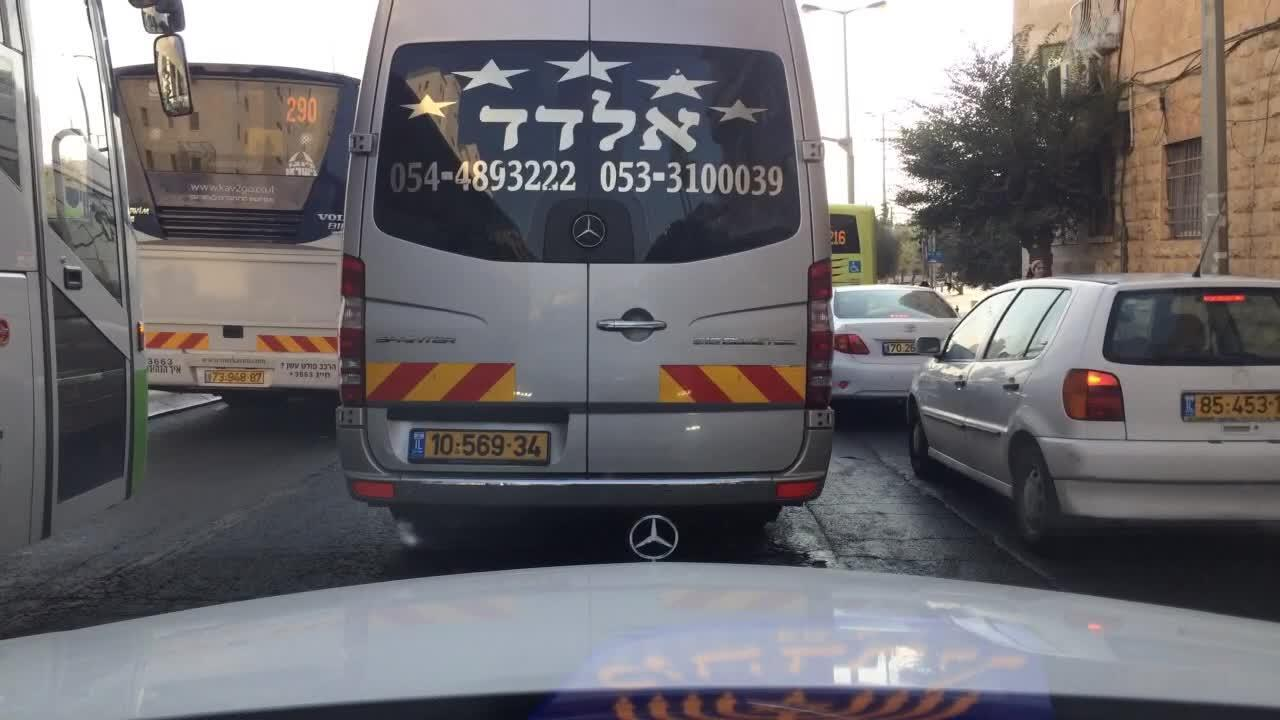Mercedes: (608, 496, 700, 571)
